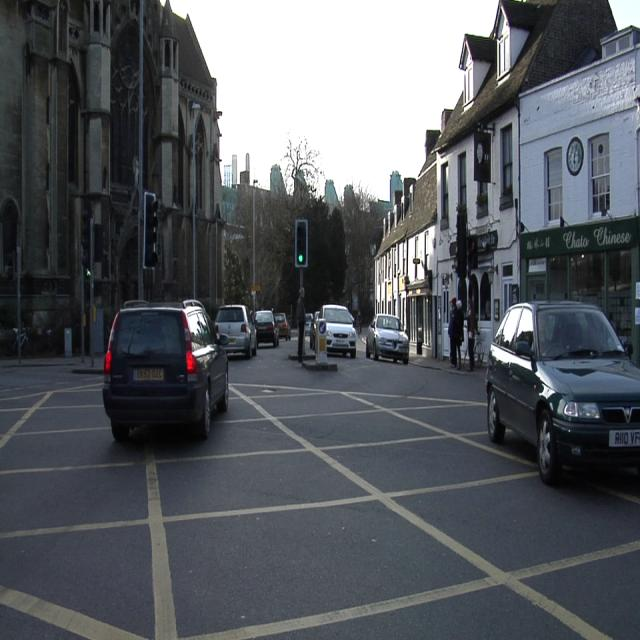Building: (437, 0, 615, 342), (1, 4, 140, 350), (521, 27, 639, 358), (223, 132, 383, 315), (143, 2, 221, 303), (375, 134, 438, 353)
Car: (487, 302, 639, 483), (104, 303, 227, 439), (215, 305, 256, 357), (365, 315, 408, 363), (319, 306, 356, 357), (255, 311, 279, 346), (275, 313, 290, 341), (305, 314, 312, 348)
Road: (0, 340, 639, 617)
Tree: (282, 135, 330, 308), (283, 132, 324, 211)
